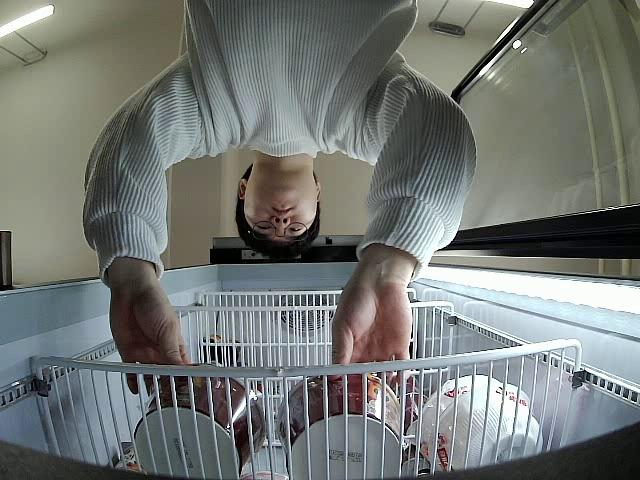00_hand: (329, 270, 412, 391), (110, 287, 191, 394)
05_nuguri_L: (134, 360, 263, 479), (276, 374, 403, 480)
